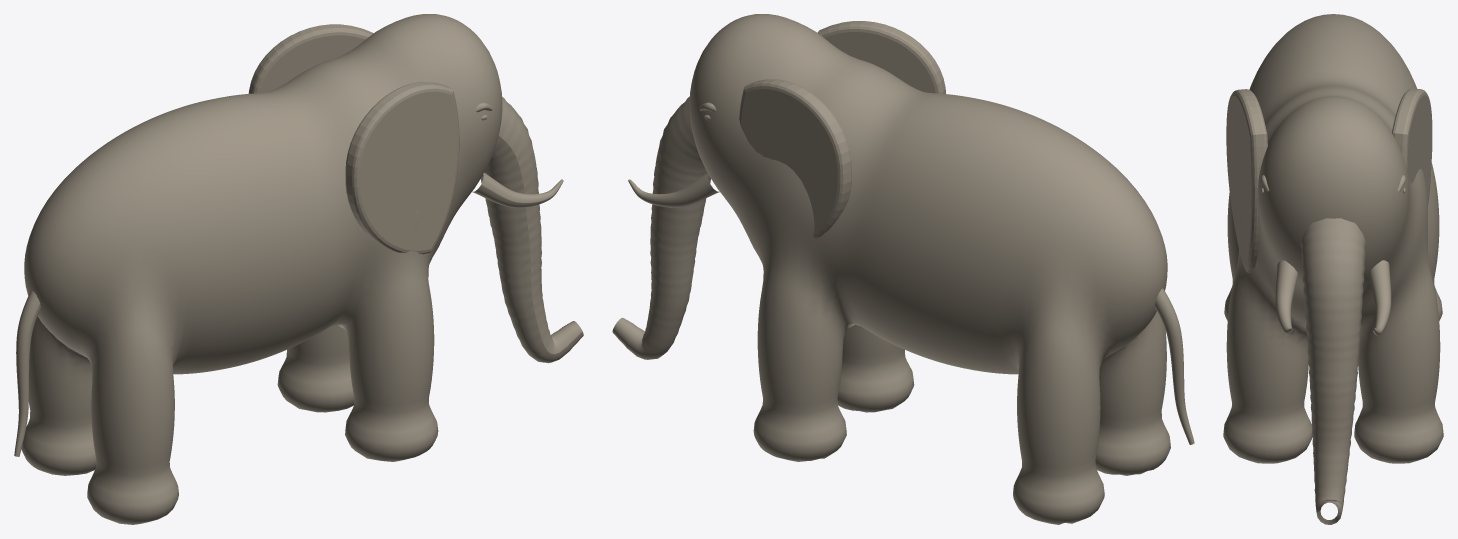
The model's file is elephant-study.glb.
3 renders of one model, left to right at view 1: azimuth 30°, elevation 25°; view 2: azimuth 150°, elevation 25°; view 3: azimuth 270°, elevation 25°, orthographic. The views are drawn at different scales.
Parts seen in each view (by area): view 1: Original three-dimensional stone elephant; view 2: Original three-dimensional stone elephant; view 3: Original three-dimensional stone elephant.
Boxes of the visible parts, x1,y1,x2,y2 form: Original three-dimensional stone elephant: (14, 14, 583, 524); Original three-dimensional stone elephant: (612, 14, 1194, 524); Original three-dimensional stone elephant: (1223, 14, 1443, 524).
Size of the model in its own units: 6.19 by 4 by 2.12.
